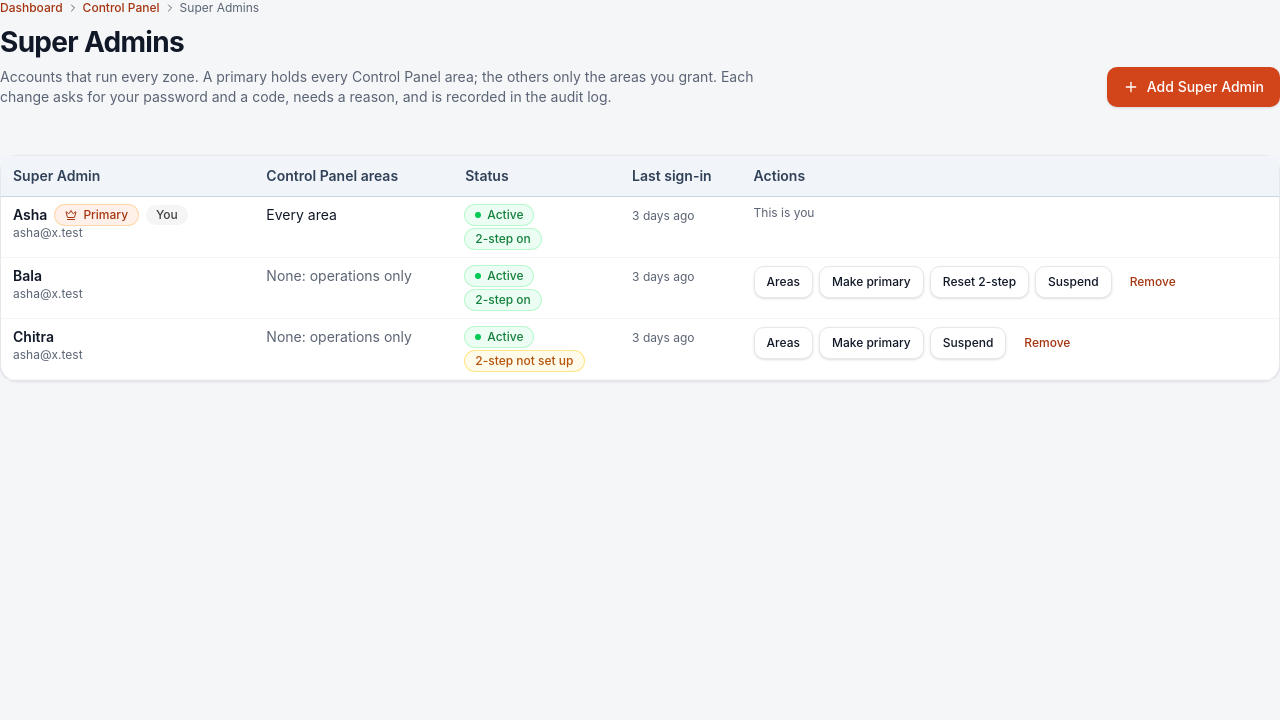
Test case: Super Admins page › F9 B5: a primary resets another Super Admin’s 2-step, never their own; a refusal shows the API reason
Expected: the text "Bala" is shown, [13,267,42,284]
Click the button with aria-label "Reset the 2-step verification of Bala".
click(979, 282)  # box [930,266,1029,298]
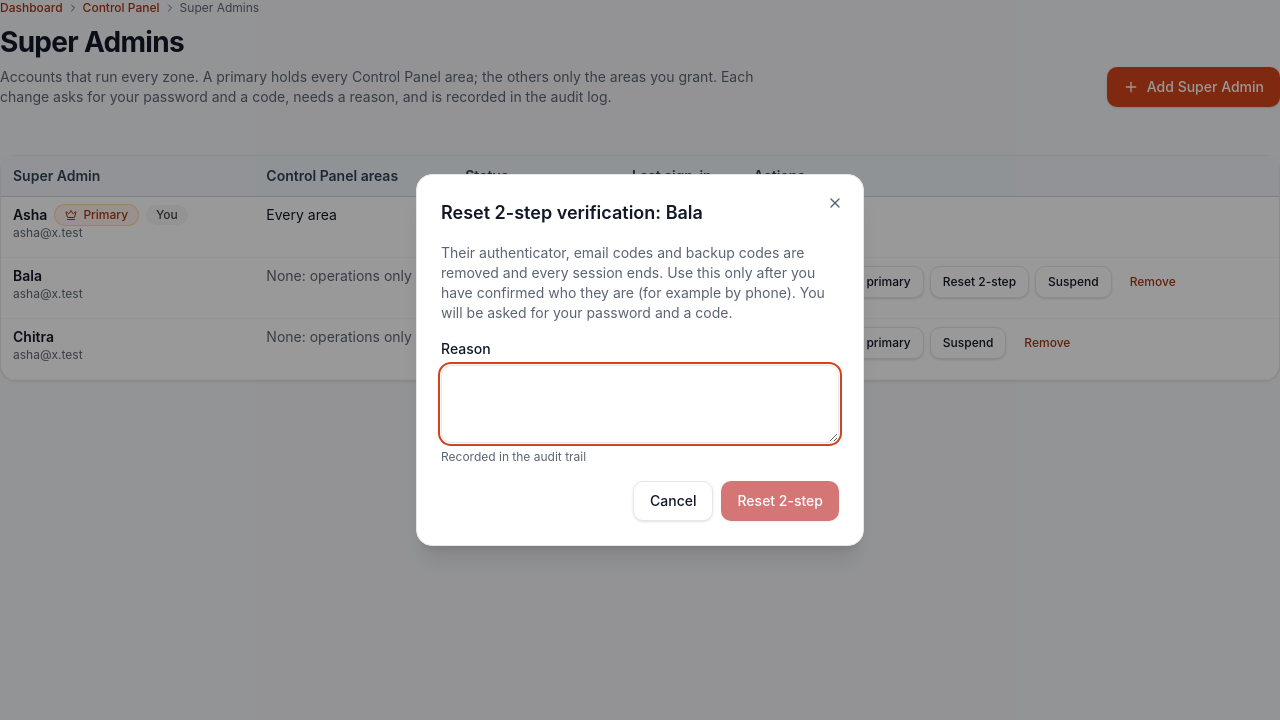
Type "Lost phone, confirmed by call" into the text box labelled "Reason".
click(640, 404); type("Lost phone, confirmed by call")  # box [441,365,839,443]
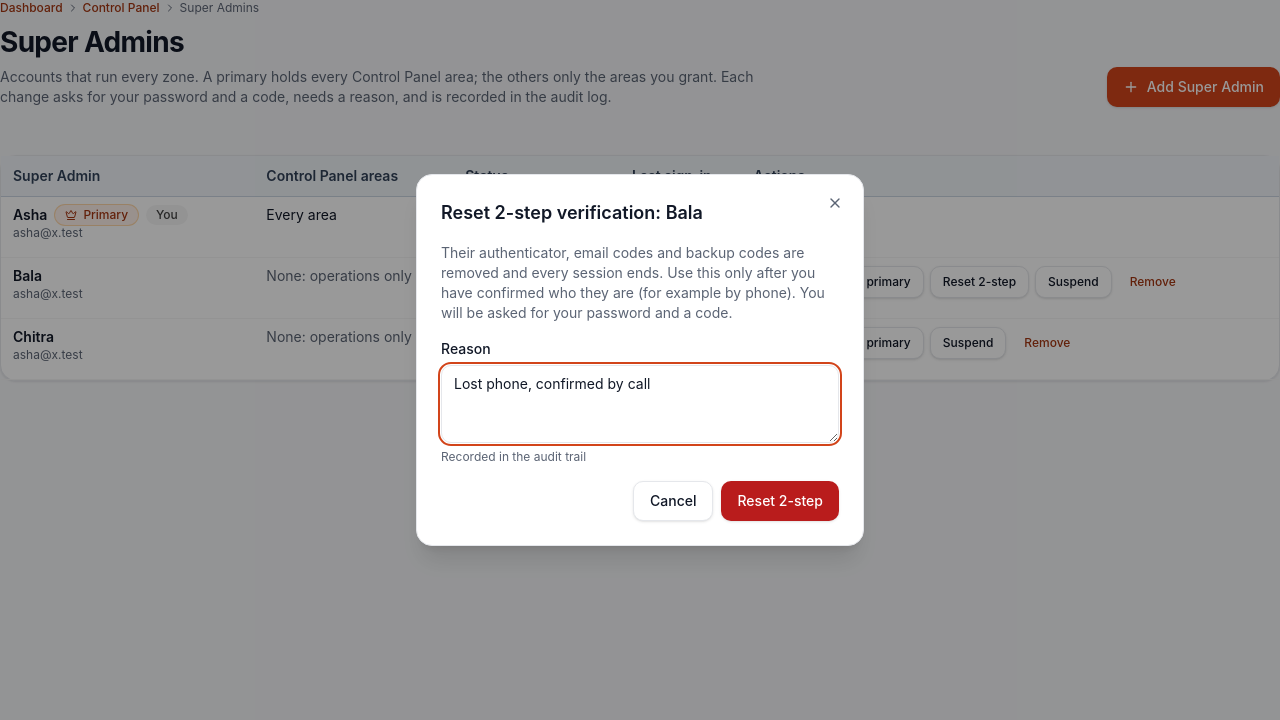
Click the button "Reset 2-step".
click(780, 501)  # box [722,481,839,521]
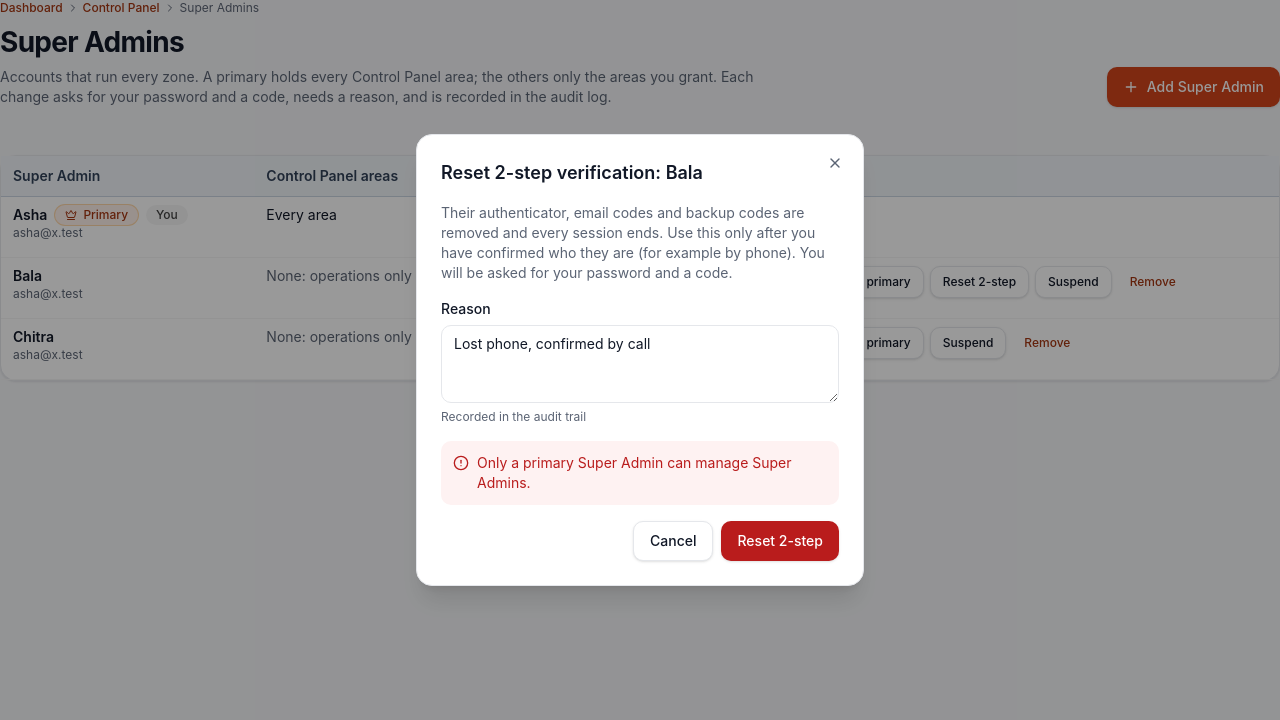
Now the text "Only a primary Super Admin can manage Super Admins." is shown, box [441,441,839,505]
